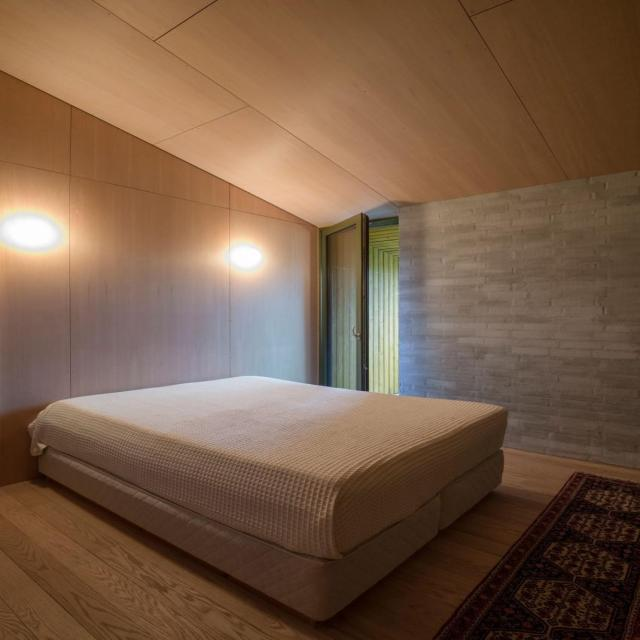other: (5, 199, 84, 269), (218, 238, 279, 282)
